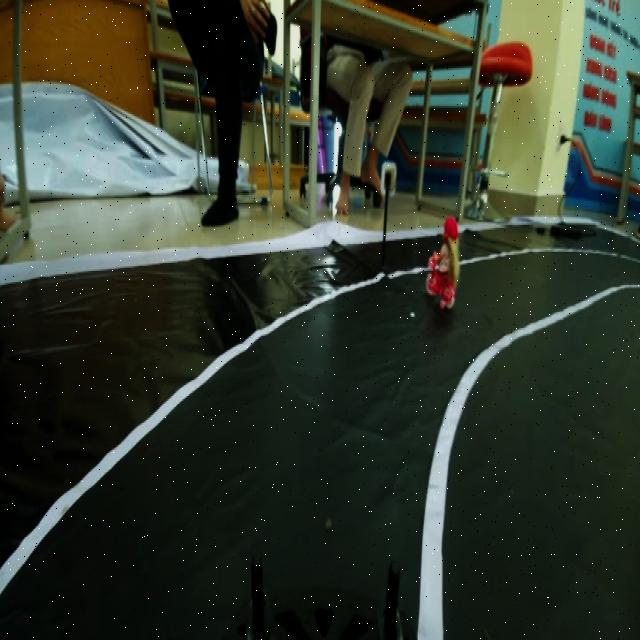pedestrian: (422, 195, 462, 317)
